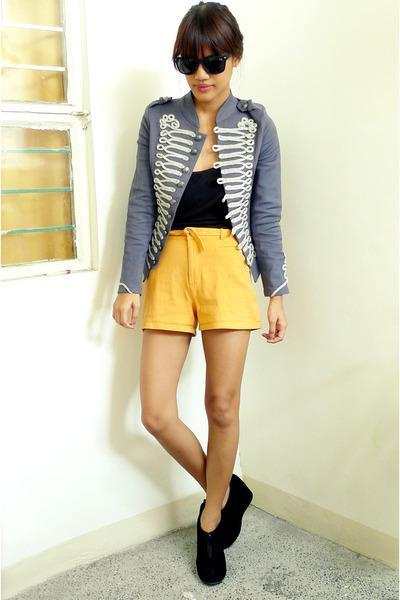Shorts: (132, 228, 262, 339)
jacket: (112, 93, 295, 303)
vest: (155, 157, 243, 235)
